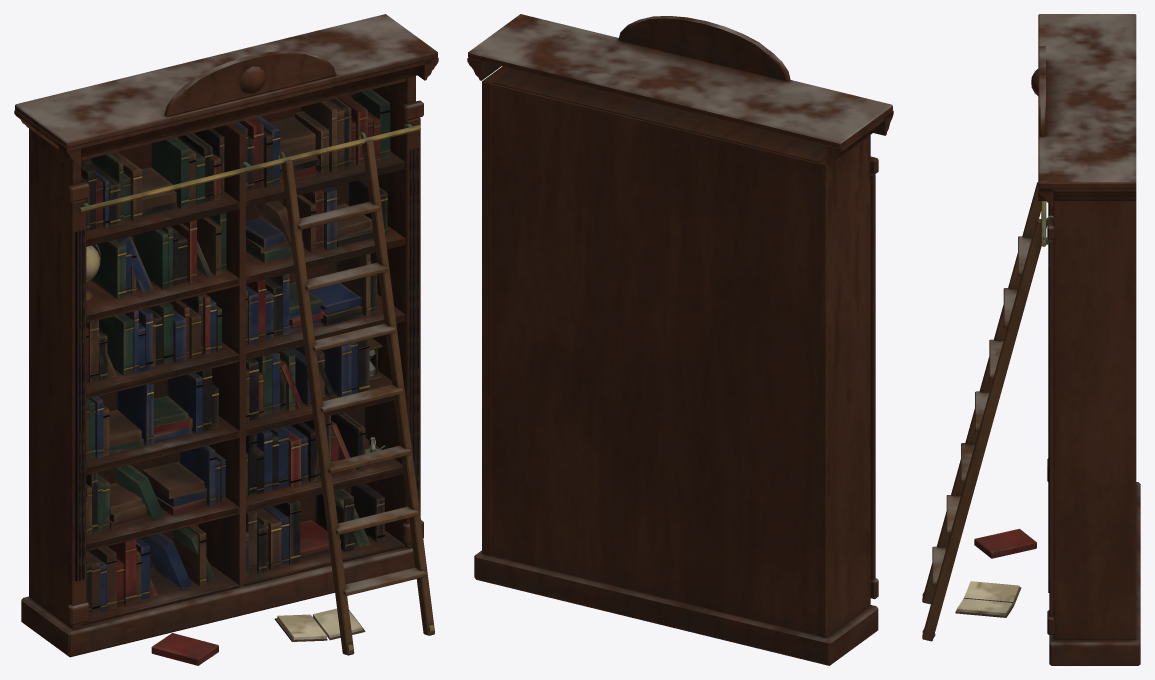
Rendered from LibraryBookshelf.fbx.
3 views of the same model, side by side, from view 1: azimuth 30°, elevation 25°; view 2: azimuth 150°, elevation 25°; view 3: azimuth 270°, elevation 25° (orthographic). The views are drawn at different scales.
Visible parts, largest first — view 1: Frame, Ladder; view 2: Frame; view 3: Frame, Ladder.
Part boxes in pixels (x1=…): Frame: x1=14, y1=14, x2=438, y2=665; Ladder: x1=277, y1=132, x2=434, y2=655; Frame: x1=467, y1=14, x2=893, y2=665; Frame: x1=955, y1=14, x2=1140, y2=665; Ladder: x1=922, y1=182, x2=1053, y2=641.
Bounding box in the file's own units: 5.52 × 7.96 × 3.01.
Materials: 1 (1 with a texture image).
